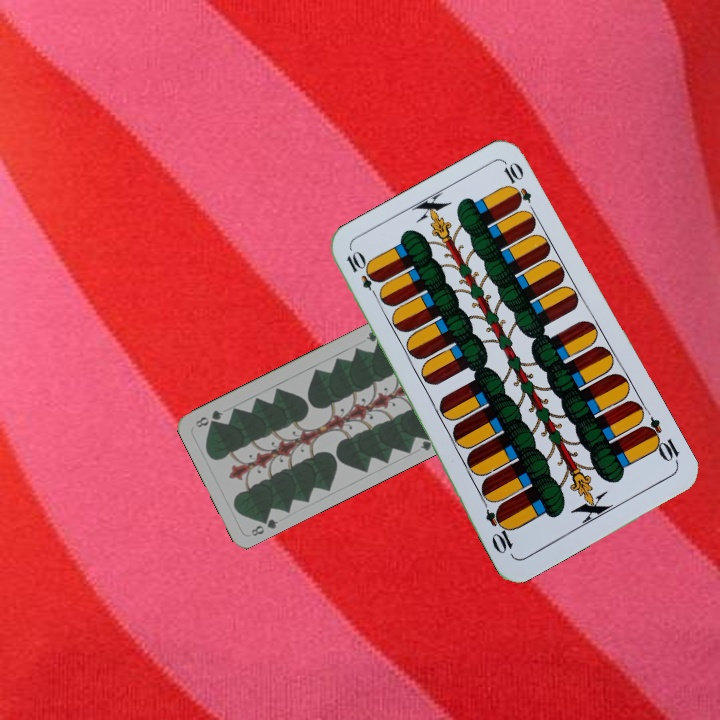E10: (638, 413, 682, 467), (342, 247, 383, 302)
G8: (247, 511, 281, 539)
